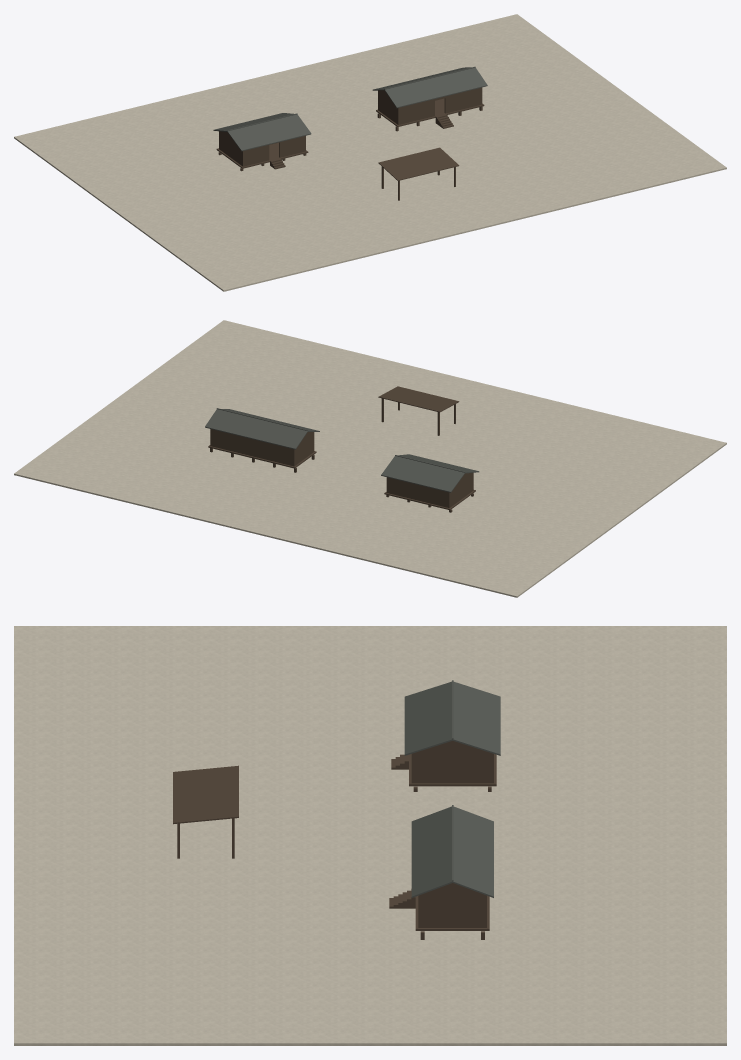
Rendered from granary-city-LOD2.glb.
The picture shows the model from 3 angles, top to bottom: view 1: azimuth 30°, elevation 25°; view 2: azimuth 150°, elevation 25°; view 3: azimuth 270°, elevation 25°; orthographic projection. The views are drawn at different scales.
Parts seen in each view (by area): view 1: original_city_ground_preserved, granary-group-static_timber, granary-group-static_tile; view 2: original_city_ground_preserved, granary-group-static_timber, granary-group-static_tile; view 3: original_city_ground_preserved, granary-group-static_tile, granary-group-static_timber.
Boxes of the visible parts, <box> form: original_city_ground_preserved: <box>14,14,726,291</box>; granary-group-static_timber: <box>216,87,484,200</box>; granary-group-static_tile: <box>213,66,487,151</box>; original_city_ground_preserved: <box>14,320,726,597</box>; granary-group-static_timber: <box>208,386,475,512</box>; granary-group-static_tile: <box>205,408,479,492</box>; original_city_ground_preserved: <box>14,626,726,1045</box>; granary-group-static_tile: <box>404,680,500,897</box>; granary-group-static_timber: <box>173,741,496,939</box>.
Bounding box in the file's own units: 72 × 5.15 × 52.
3 materials, 1 textured.
